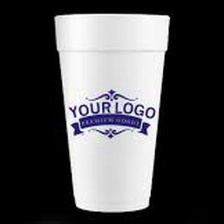paper_cup: (47, 6, 175, 217)
